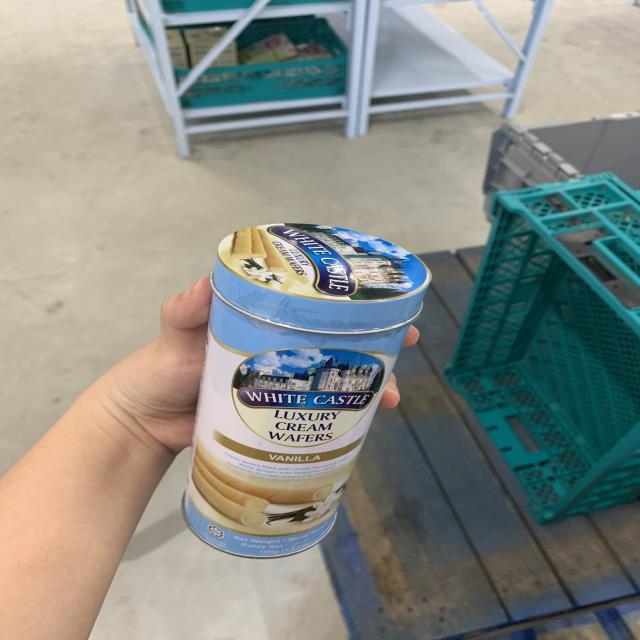object_name: (222, 240, 339, 546)
